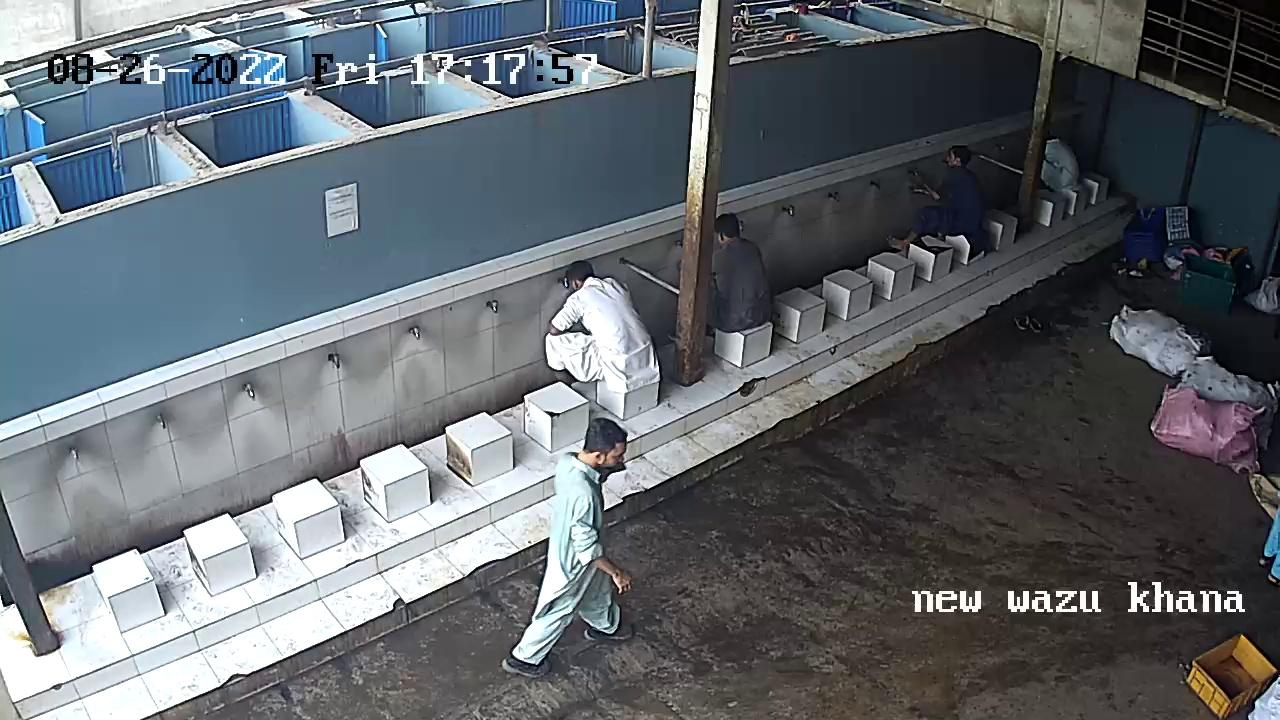person: (507, 418, 632, 682), (544, 266, 656, 392), (712, 215, 784, 332), (920, 149, 987, 258), (1046, 138, 1090, 188)
